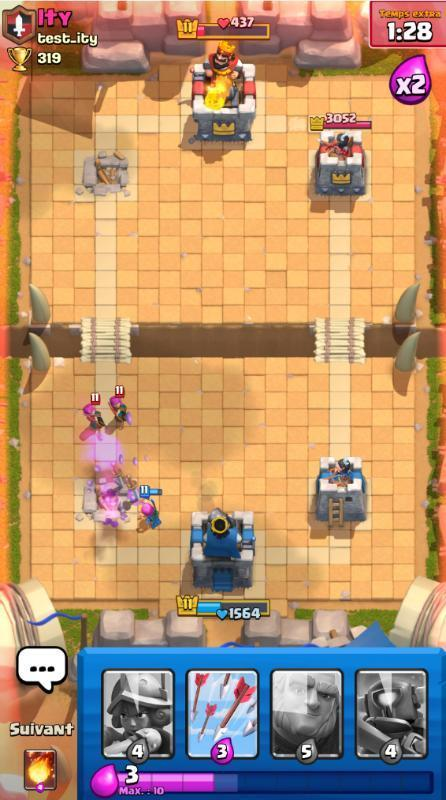player_archers: (76, 393, 106, 439), (102, 381, 132, 427), (135, 484, 165, 530)
